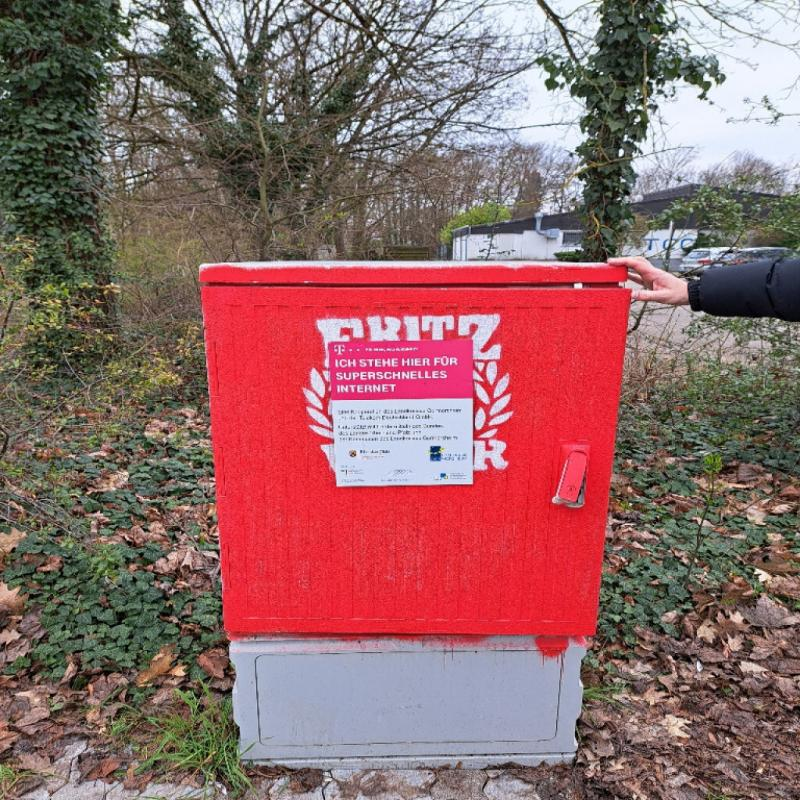NT-Gehause: (195, 262, 641, 763)
Steaker: (327, 338, 474, 488)
